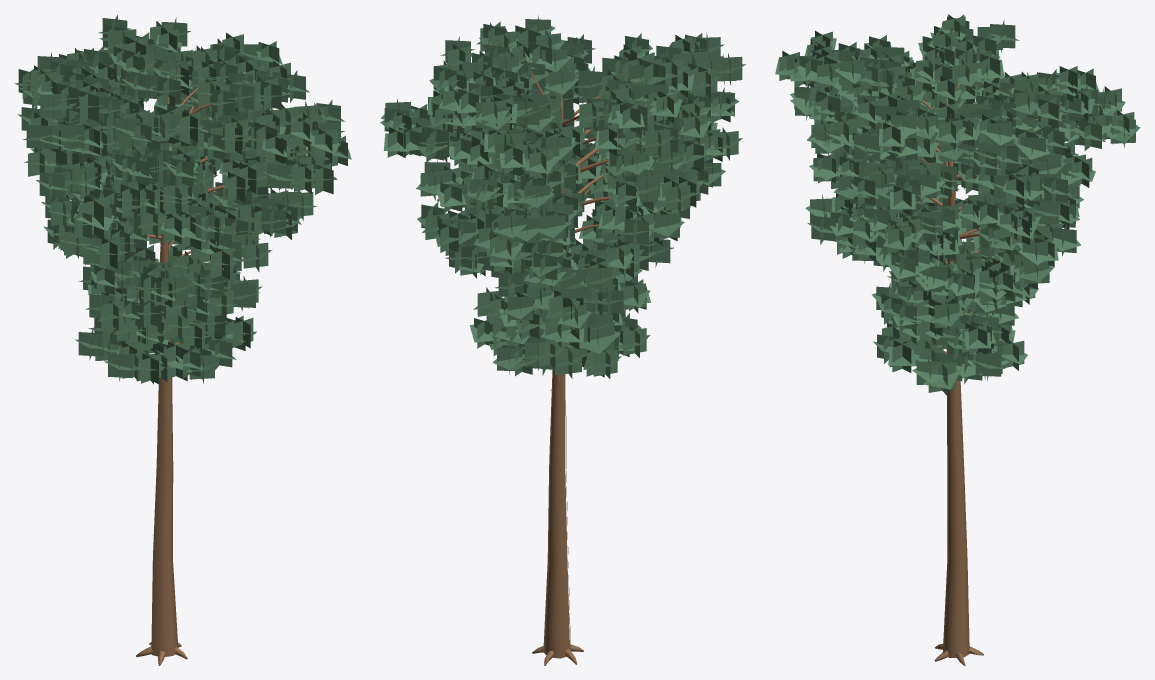
The model's file is pin_3_f2_jeu.glb.
3 views of the same model, side by side, from view 1: azimuth 30°, elevation 25°; view 2: azimuth 150°, elevation 25°; view 3: azimuth 270°, elevation 25° (orthographic).
Parts seen in each view (by area): view 1: Pin_T3_f2_Leger; view 2: Pin_T3_f2_Leger; view 3: Pin_T3_f2_Leger.
Part boxes in pixels (x1,y1,x2,y2): Pin_T3_f2_Leger: (14,15,351,665); Pin_T3_f2_Leger: (380,15,745,665); Pin_T3_f2_Leger: (775,14,1140,665).
Size of the model in its own units: 8.73 by 15.93 by 8.95.
